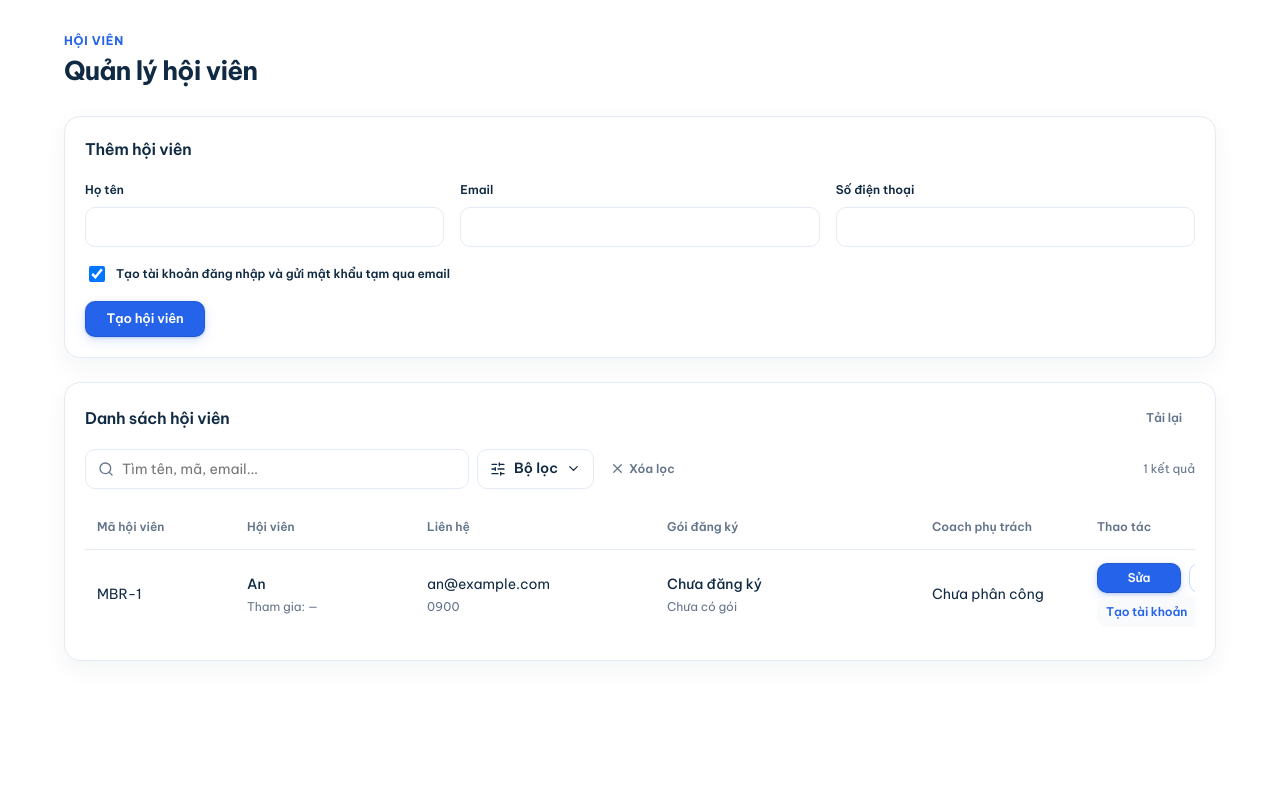
Test: MembersPage › offers account creation for an existing member and sends the selected member id
Click the button "Tạo tài khoản" at (1185, 612), box top-left (1097, 597), bottom-right (1273, 627)
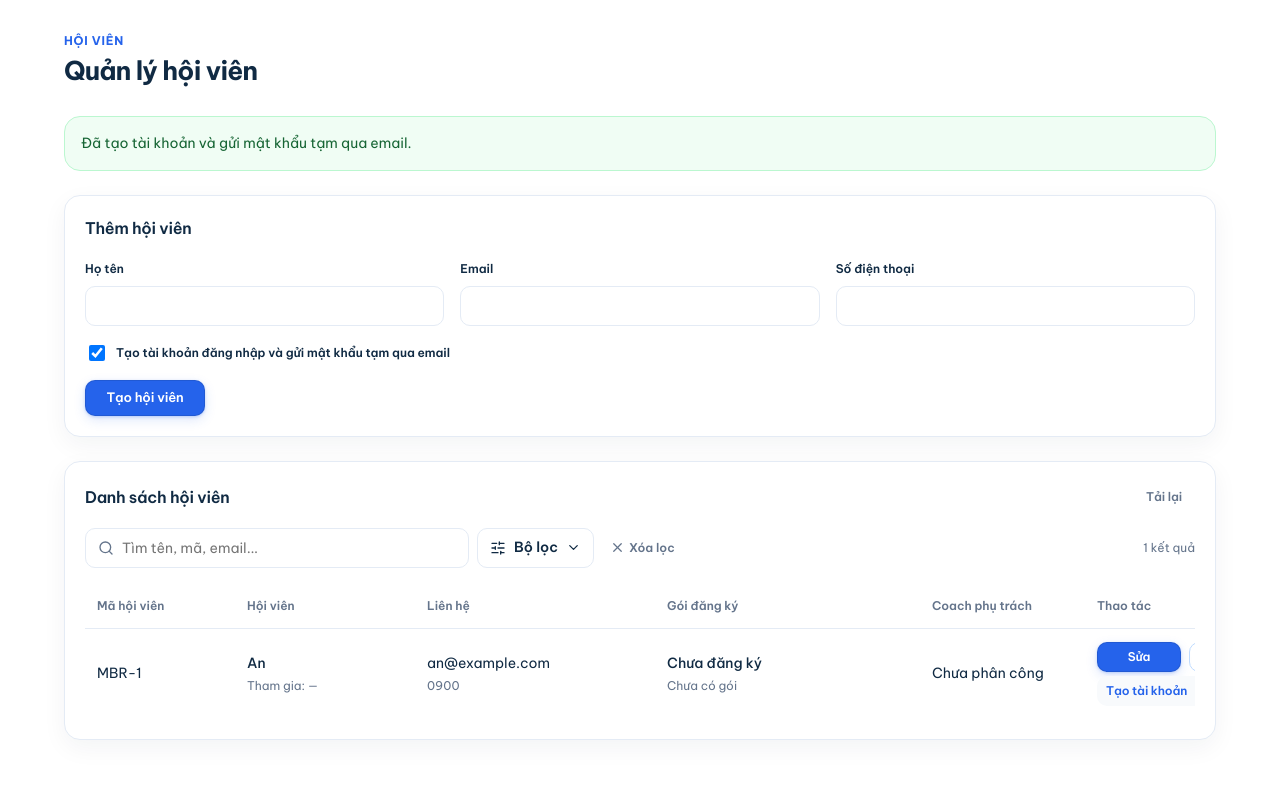
expect the message reads "Đã tạo tài khoản và gửi mật khẩu tạm qua email.": met, box top-left (81, 134), bottom-right (412, 152)
